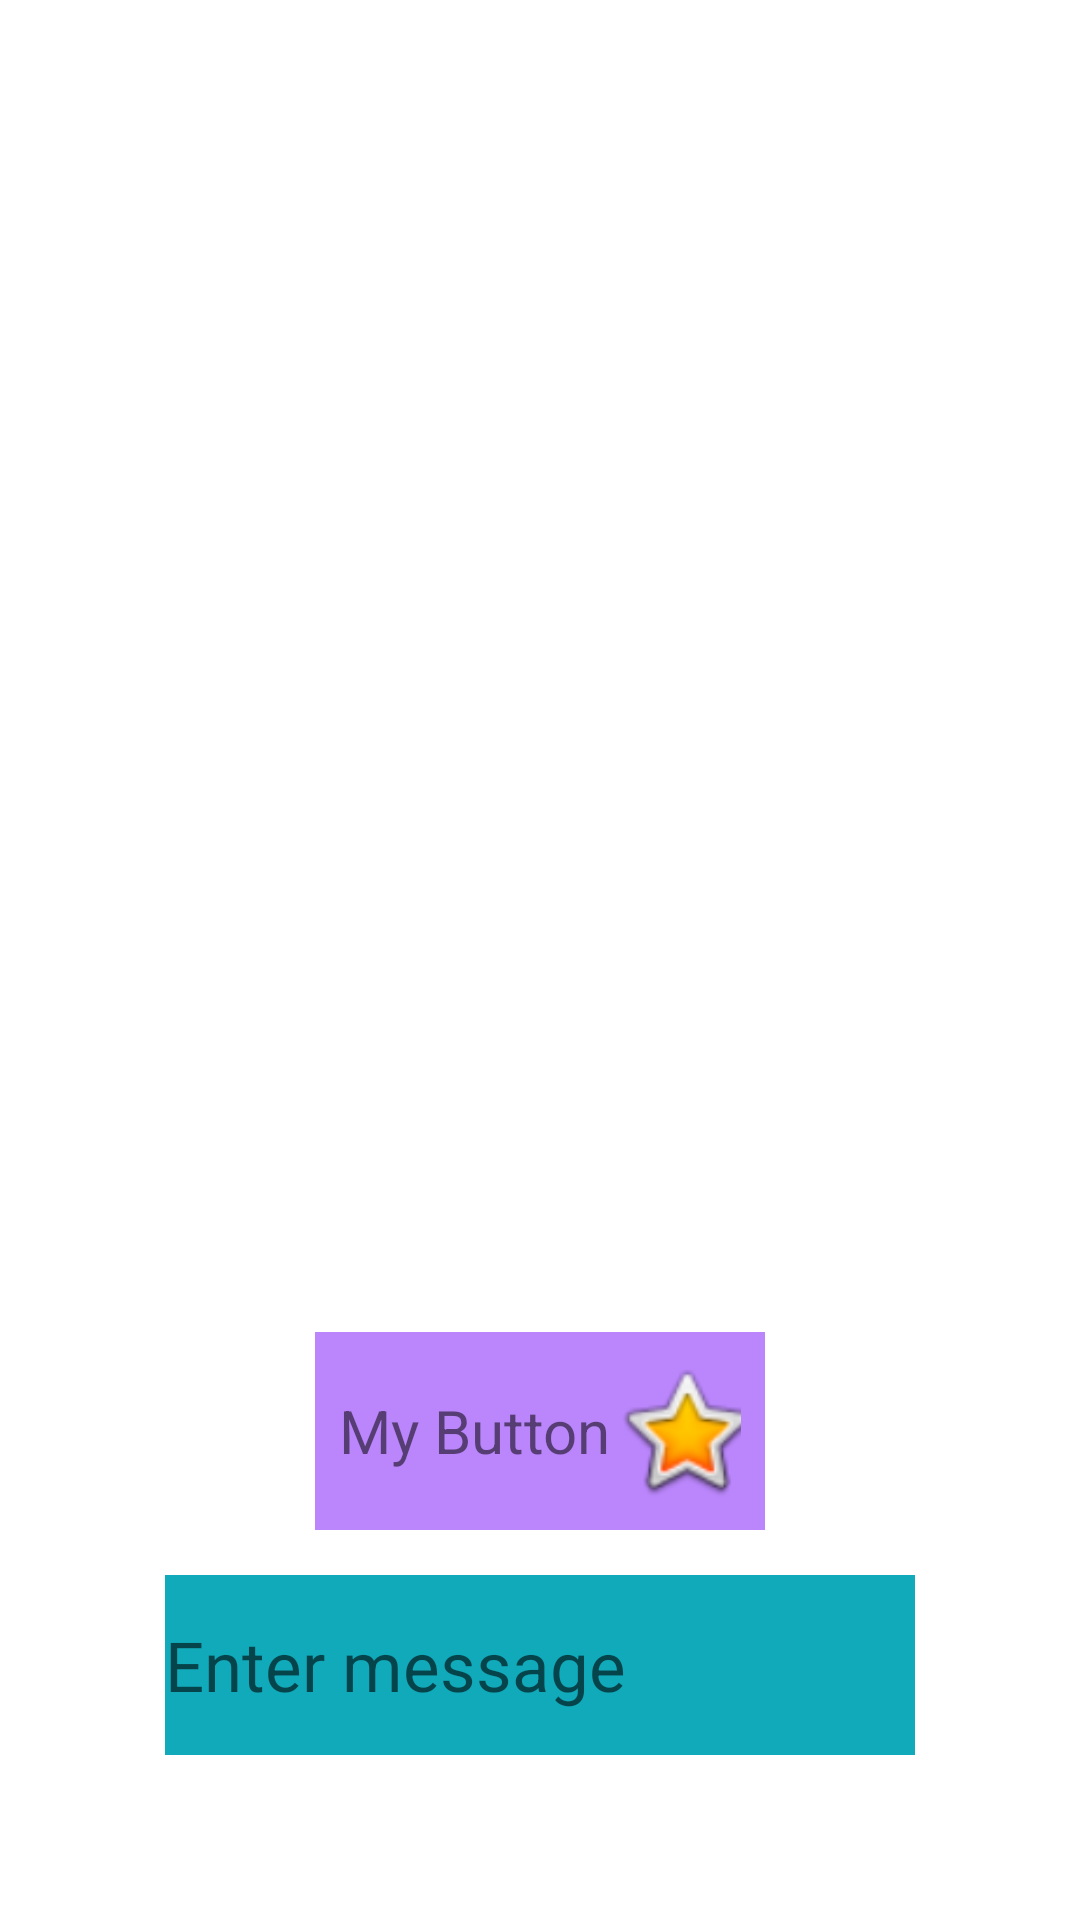

Screen size 1080w x 1920h. Icon name, then its center in pixels as (x=x, y=y):
star on: (x=683, y=1432)
